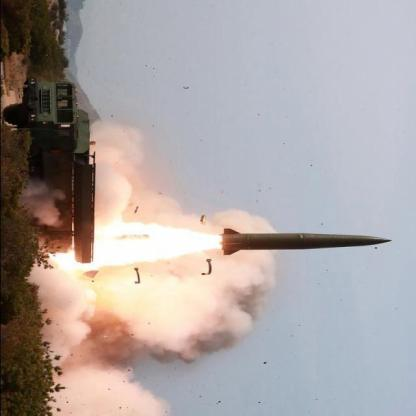MIL_TBM: (214, 225, 400, 258)
